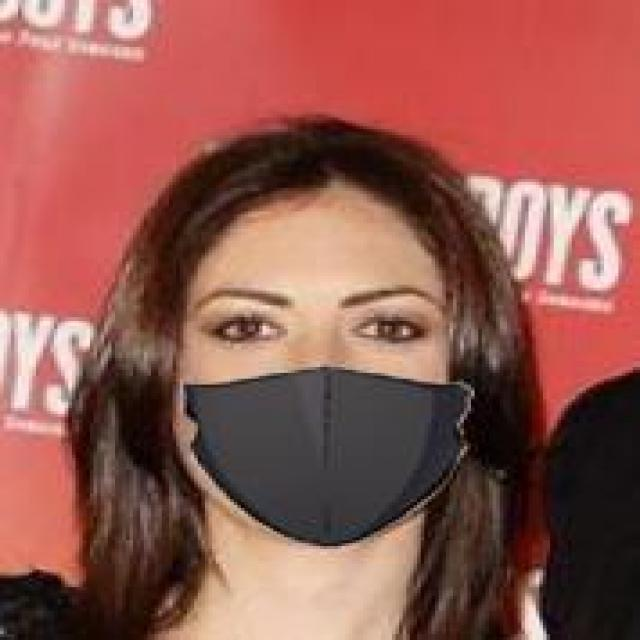mask: (104, 76, 568, 578)
